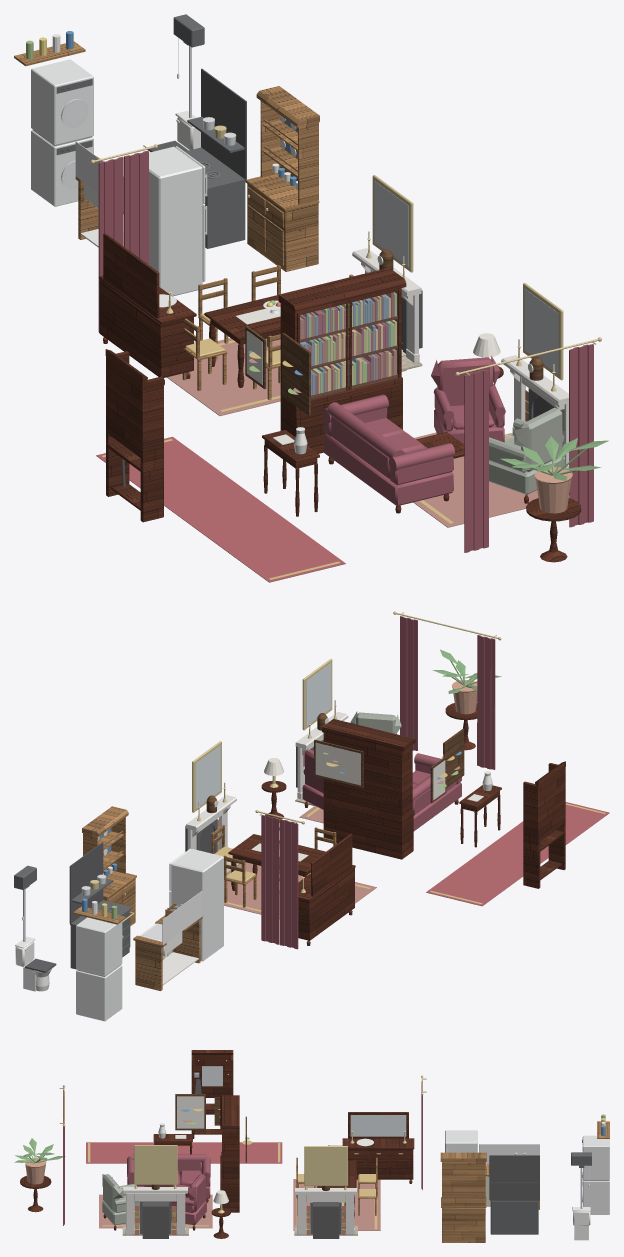
File: furn_0_l.glb
The picture shows the model from 3 angles, top to bottom: view 1: azimuth 30°, elevation 25°; view 2: azimuth 150°, elevation 25°; view 3: azimuth 270°, elevation 25°; orthographic projection. The views are drawn at different scales.
Parts seen in each view (by area): view 1: furn_0_l_mahog, furn_0_l_velvet, furn_0_l_wood, furn_0_l_appl, furn_0_l_carpet_r, furn_0_l_glass, furn_0_l_rug, furn_0_l_iron, furn_0_l_mirror, furn_0_l_dark, furn_0_l_fabric_g, furn_0_l_mantel (+12 smaller); view 2: furn_0_l_mahog, furn_0_l_velvet, furn_0_l_appl, furn_0_l_wood, furn_0_l_carpet_r, furn_0_l_mirror, furn_0_l_dark, furn_0_l_paper, furn_0_l_dkwood, furn_0_l_mantel, furn_0_l_iron, furn_0_l_brass (+8 smaller); view 3: furn_0_l_mahog, furn_0_l_wood, furn_0_l_dark, furn_0_l_brass, furn_0_l_mantel, furn_0_l_velvet, furn_0_l_appl, furn_0_l_carpet_r, furn_0_l_iron, furn_0_l_rug, furn_0_l_mirror, furn_0_l_fabric_g (+9 smaller).
Boxes of the visible parts, <box> form: furn_0_l_mahog: <box>98,233,581,562</box>; furn_0_l_velvet: <box>98,150,593,552</box>; furn_0_l_wood: <box>14,41,353,400</box>; furn_0_l_appl: <box>31,59,205,296</box>; furn_0_l_carpet_r: <box>96,436,345,582</box>; furn_0_l_glass: <box>66,103,397,398</box>; furn_0_l_rug: <box>167,338,538,527</box>; furn_0_l_iron: <box>173,14,555,420</box>; furn_0_l_mirror: <box>374,181,558,374</box>; furn_0_l_dark: <box>61,68,549,487</box>; furn_0_l_fabric_g: <box>489,407,565,494</box>; furn_0_l_mantel: <box>352,248,569,468</box>; furn_0_l_mahog: <box>228,703,565,945</box>; furn_0_l_velvet: <box>261,616,495,949</box>; furn_0_l_appl: <box>76,848,223,1021</box>; furn_0_l_wood: <box>73,806,336,990</box>; furn_0_l_carpet_r: <box>426,802,609,906</box>; furn_0_l_mirror: <box>195,663,331,808</box>; furn_0_l_dark: <box>25,746,313,972</box>; furn_0_l_paper: <box>198,700,483,861</box>; furn_0_l_dkwood: <box>206,713,464,813</box>; furn_0_l_mantel: <box>186,712,348,850</box>; furn_0_l_iron: <box>14,739,323,969</box>; furn_0_l_brass: <box>90,611,501,938</box>; furn_0_l_mahog: <box>20,1050,414,1238</box>; furn_0_l_wood: <box>296,1121,609,1242</box>; furn_0_l_dark: <box>142,1079,582,1238</box>; furn_0_l_brass: <box>59,1060,524,1213</box>; furn_0_l_mantel: <box>123,1187,356,1234</box>; furn_0_l_velvet: <box>63,1080,422,1225</box>; furn_0_l_appl: <box>445,1130,609,1214</box>; furn_0_l_carpet_r: <box>86,1142,282,1163</box>; furn_0_l_iron: <box>140,1152,591,1234</box>; furn_0_l_rug: <box>99,1120,380,1230</box>; furn_0_l_mirror: <box>202,1066,406,1136</box>; furn_0_l_fabric_g: <box>102,1174,139,1225</box>.
Bounding box in the file's own units: 5.95 × 2.63 × 13.65.
Materials: 42 (5 with a texture image).
